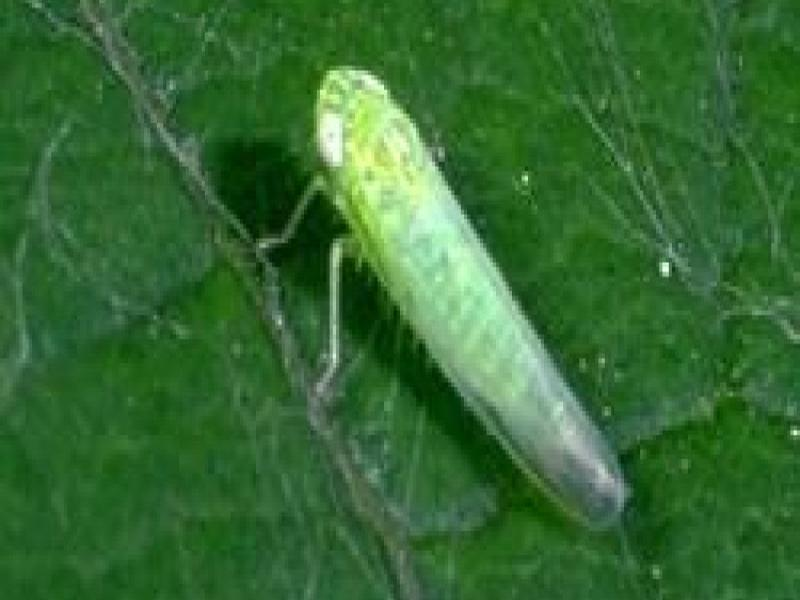Brown_plant_leafhopper: (249, 54, 652, 525)
